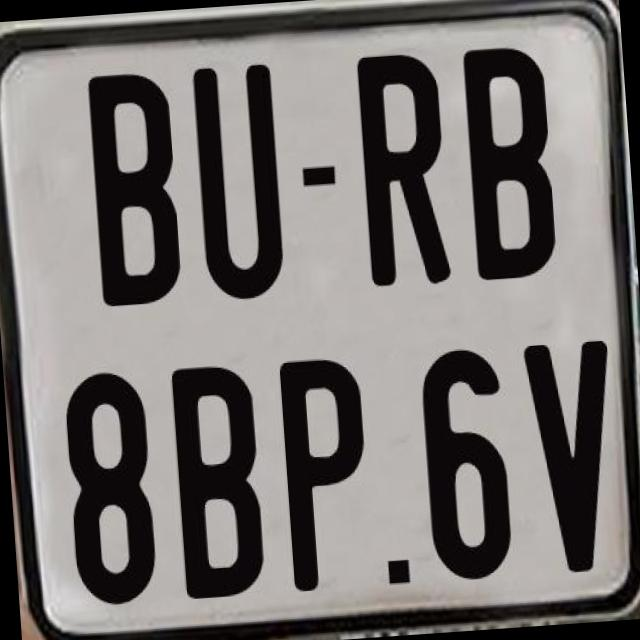6: (418, 346, 516, 586)
8: (58, 369, 161, 611)
B: (88, 71, 190, 316), (462, 42, 562, 286), (170, 360, 268, 602)
P: (274, 351, 372, 590)
R: (352, 52, 453, 298)
U: (188, 62, 288, 306)
V: (521, 340, 624, 582)
